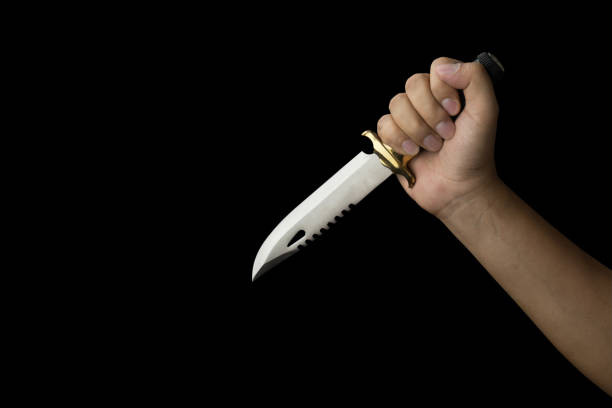knife: (247, 46, 512, 285)
